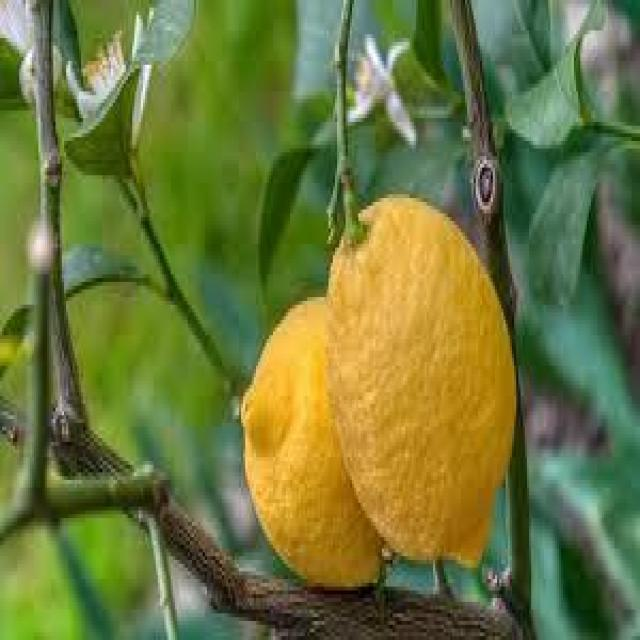fruit: (322, 187, 520, 575), (243, 295, 383, 584)
